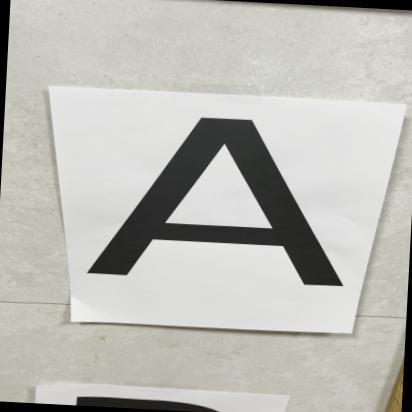seat: (100, 97, 358, 311)
